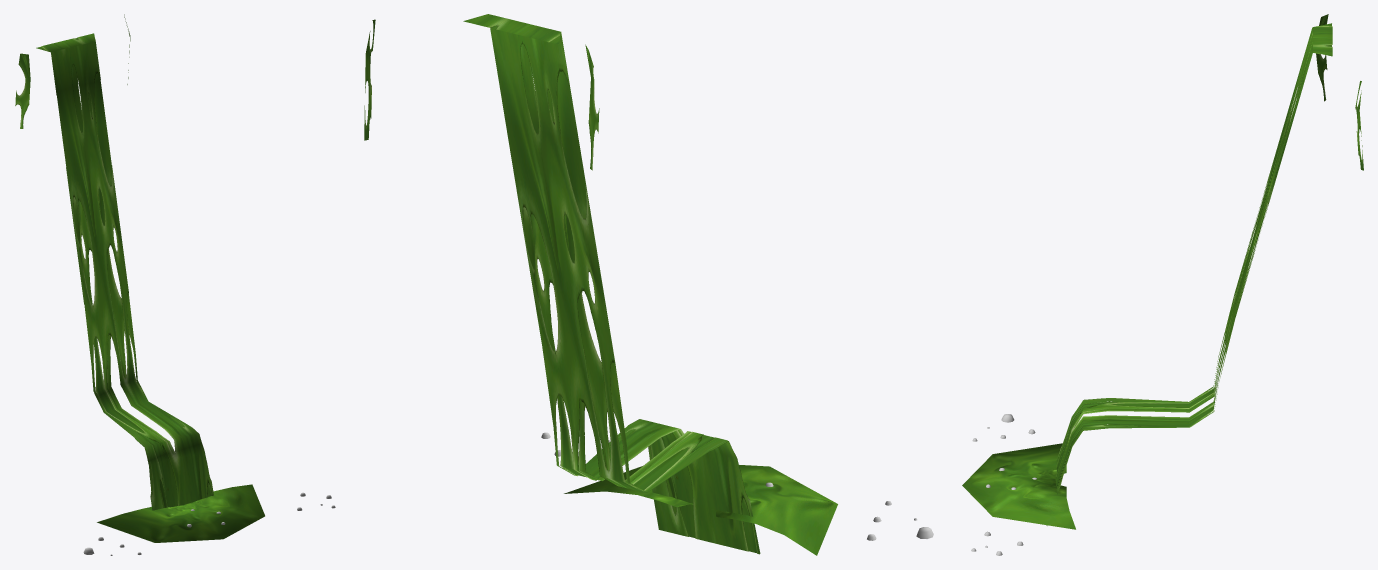
The model's file is undercityslimefalls01.obj.
3 renders of one model, left to right at view 1: azimuth 30°, elevation 25°; view 2: azimuth 150°, elevation 25°; view 3: azimuth 270°, elevation 25°, orthographic. The views are drawn at different scales.
Parts seen in each view (by area): view 1: UNDERCITYSLIMEFALLS011, UNDERCITYSLIMEFALLS012, UNDERCITYSLIMEFALLS010, UNDERCITYSLIMEFALLS013; view 2: UNDERCITYSLIMEFALLS012, UNDERCITYSLIMEFALLS011, UNDERCITYSLIMEFALLS010; view 3: UNDERCITYSLIMEFALLS010, UNDERCITYSLIMEFALLS011, UNDERCITYSLIMEFALLS012.
Boxes of the visible parts, bbox=[...] form: UNDERCITYSLIMEFALLS011: bbox=[36, 38, 213, 510]; UNDERCITYSLIMEFALLS012: bbox=[41, 33, 212, 509]; UNDERCITYSLIMEFALLS010: bbox=[97, 484, 264, 542]; UNDERCITYSLIMEFALLS013: bbox=[15, 53, 30, 128]; UNDERCITYSLIMEFALLS012: bbox=[463, 14, 759, 554]; UNDERCITYSLIMEFALLS011: bbox=[488, 14, 760, 553]; UNDERCITYSLIMEFALLS010: bbox=[564, 465, 837, 555]; UNDERCITYSLIMEFALLS010: bbox=[962, 443, 1075, 529]; UNDERCITYSLIMEFALLS011: bbox=[1046, 23, 1331, 525]; UNDERCITYSLIMEFALLS012: bbox=[1047, 26, 1332, 525].
Size of the model in its own units: 28.25 by 44.54 by 34.61.
